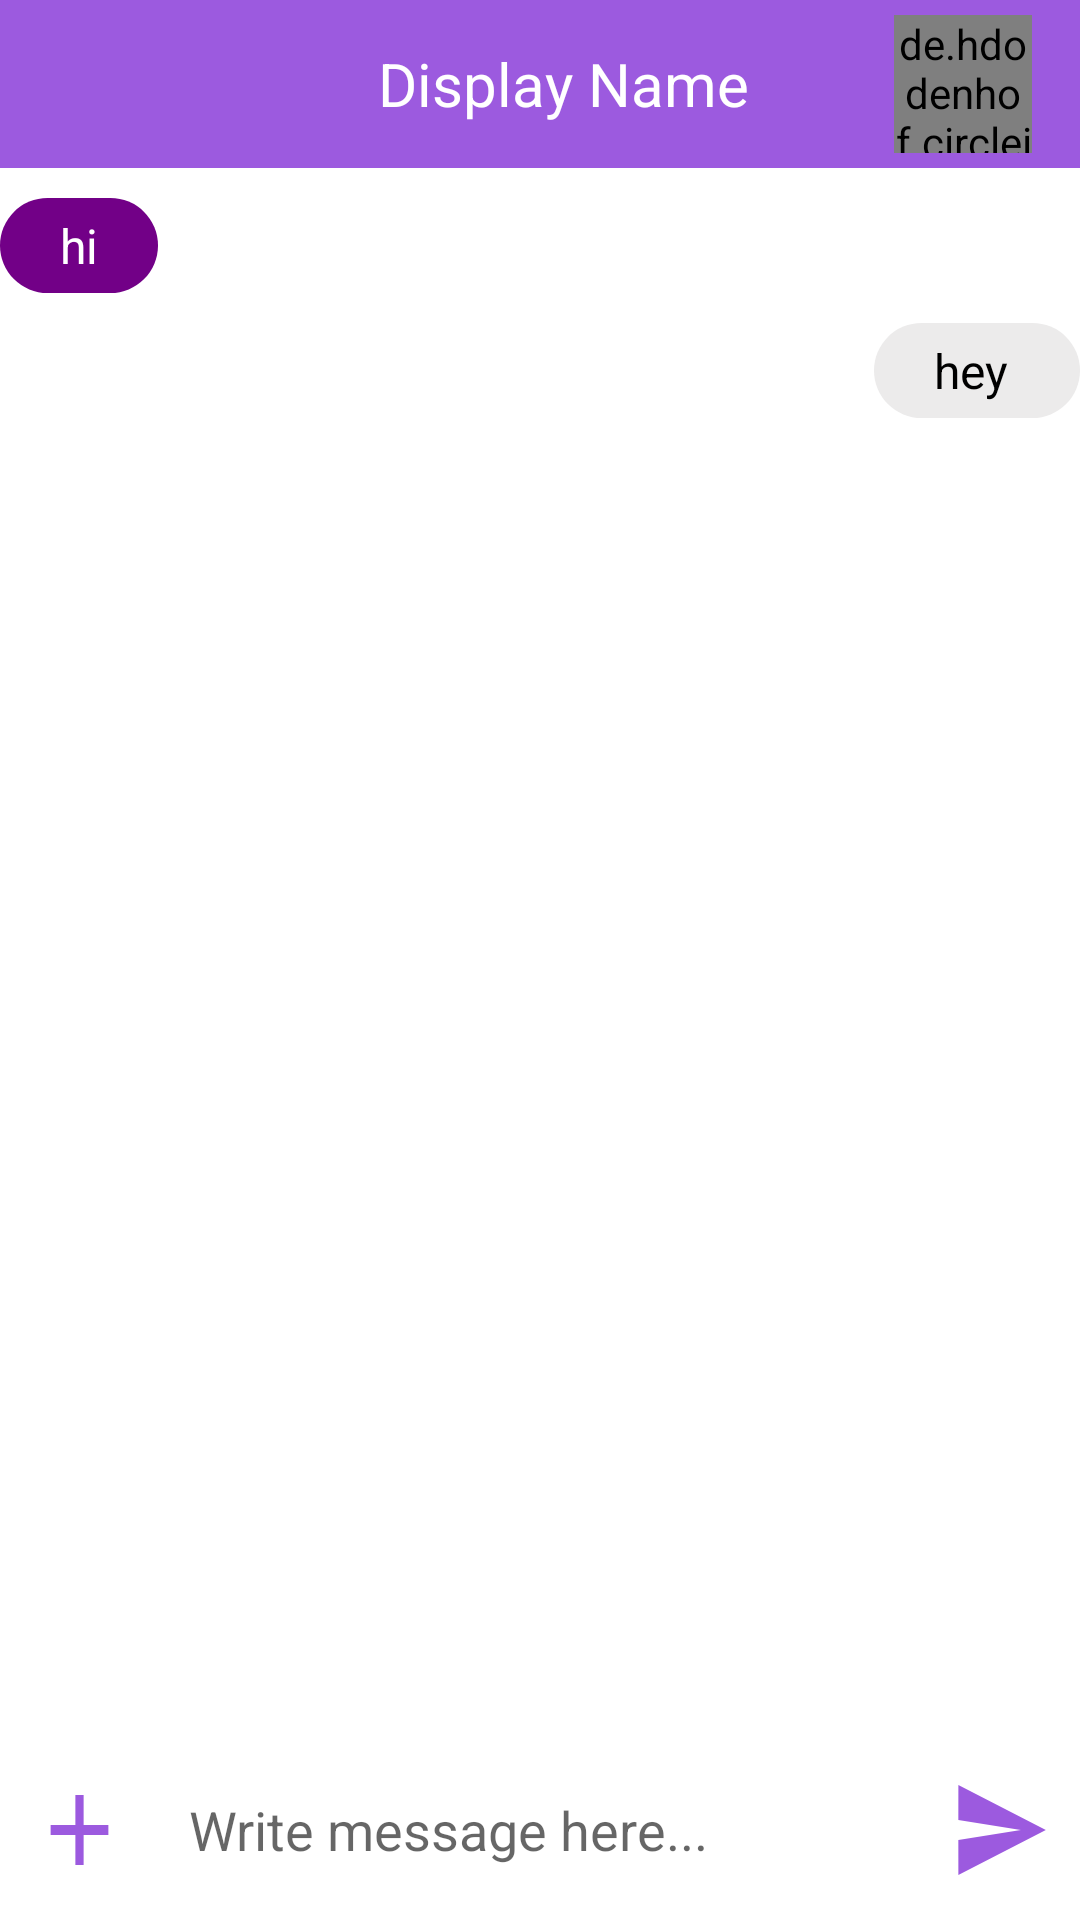

Icon bounding boxes for this 1080px×1920px phone screenshot, format (x1, y1, x2, y2):
add: (50, 1795, 109, 1865)
send: (958, 1785, 1046, 1875)
